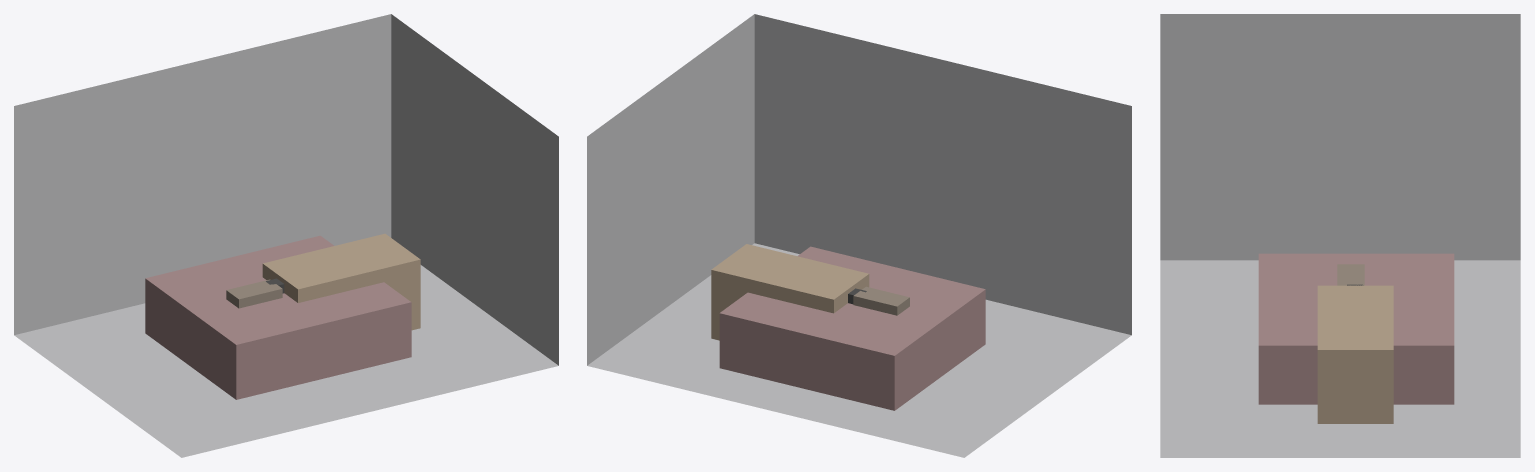
File: optimised_layout.glb
The picture shows the model from 3 angles, left to right: view 1: azimuth 30°, elevation 25°; view 2: azimuth 150°, elevation 25°; view 3: azimuth 270°, elevation 25°; orthographic projection. The views are drawn at different scales.
Parts seen in each view (by area): view 1: room, bed, desk, suitcase; view 2: room, bed, desk, suitcase; view 3: room, bed, desk, suitcase.
Boxes of the visible parts, x1,y1,x2,y2 form: room: (14,14,558,457); bed: (145,235,411,399); desk: (262,233,420,330); suitcase: (226,279,282,308); room: (587,14,1131,457); bed: (719,246,985,410); desk: (711,244,869,340); suitcase: (853,286,909,315); room: (1160,14,1520,457); bed: (1258,253,1454,404); desk: (1317,285,1393,423); suitcase: (1337,264,1364,285).
Bounding box in the file's own units: 4.31 × 2.5 × 3.31.
